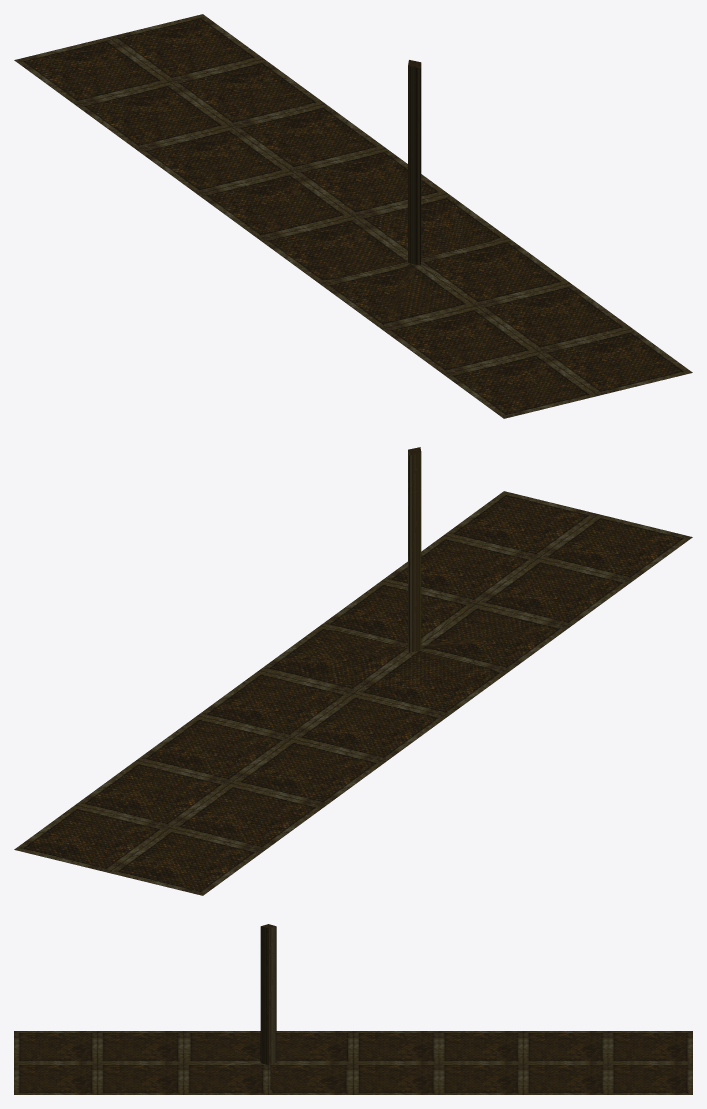
Rendered from level_01.fbx.
3 renders of one model, top to bottom at view 1: azimuth 30°, elevation 25°; view 2: azimuth 150°, elevation 25°; view 3: azimuth 270°, elevation 25°, orthographic. The views are drawn at different scales.
Visible parts, largest first — view 1: Plane; view 2: Plane; view 3: Plane.
Part boxes in pixels (bbox=[...]): Plane: bbox=[14, 14, 692, 418]; Plane: bbox=[14, 447, 692, 895]; Plane: bbox=[14, 924, 692, 1094].
Bounding box in the file's own units: 1103 × 1101 × 4957.
